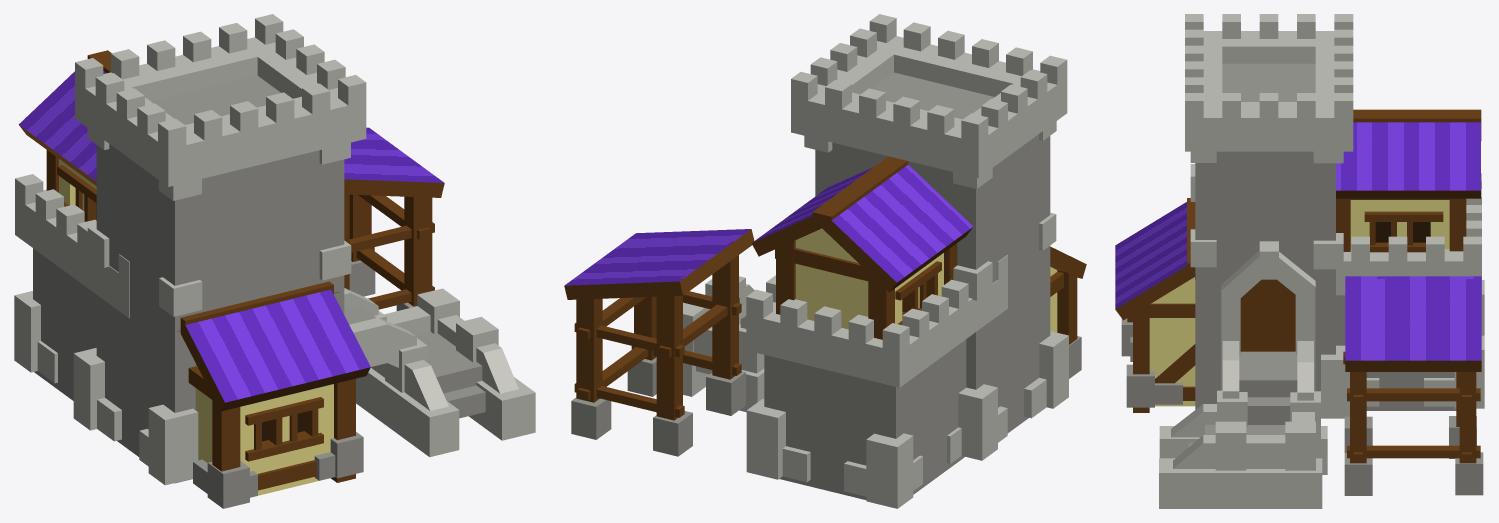
Rendered from outpost.fbx.
3 renders of one model, left to right at view 1: azimuth 30°, elevation 25°; view 2: azimuth 150°, elevation 25°; view 3: azimuth 270°, elevation 25°, orthographic. The views are drawn at different scales.
Parts seen in each view (by area): view 1: polySurface342; view 2: polySurface342; view 3: polySurface342.
Boxes of the visible parts, left/top/right/bottom form: polySurface342: left=14, top=14, right=535, bottom=508; polySurface342: left=564, top=14, right=1086, bottom=508; polySurface342: left=1115, top=14, right=1484, bottom=508.
Bounding box in the file's own units: 205 × 201 × 198.
1 material, 1 textured.
